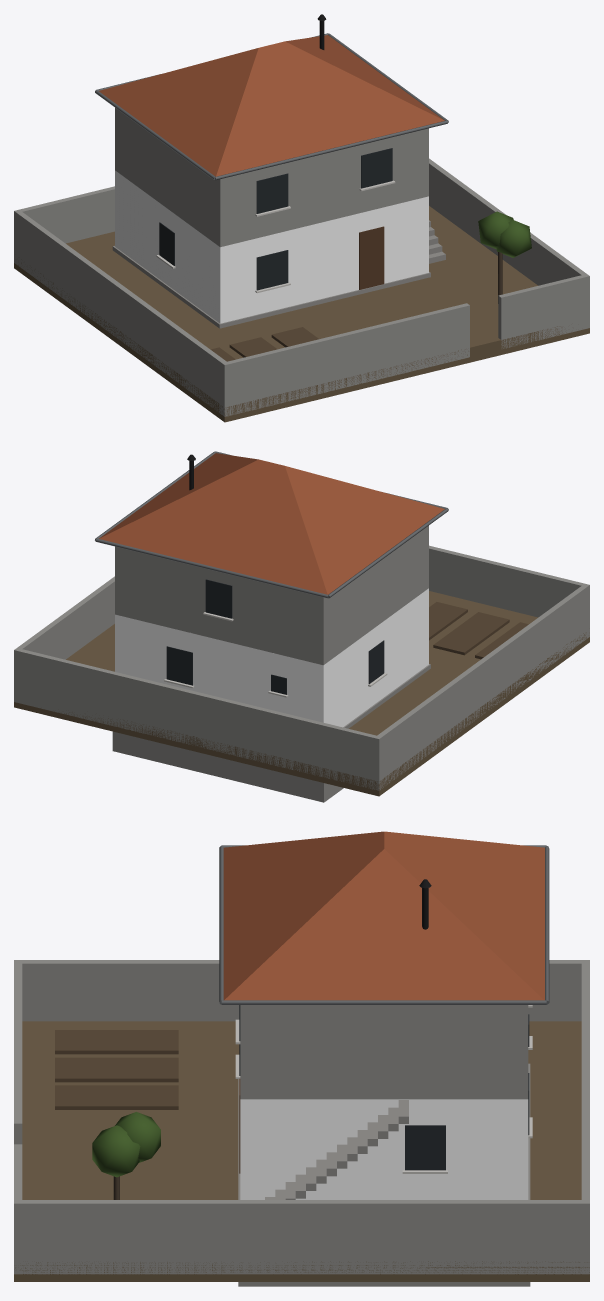
File: bina_11.glb
3 renders of one model, top to bottom at view 1: azimuth 30°, elevation 25°; view 2: azimuth 150°, elevation 25°; view 3: azimuth 270°, elevation 25°, orthographic. The views are drawn at different scales.
Parts seen in each view (by area): view 1: P11_Gecekondu_B_L1.001; view 2: P11_Gecekondu_B_L1.001; view 3: P11_Gecekondu_B_L1.001.
Boxes of the visible parts, x1,y1,x2,y2 form: P11_Gecekondu_B_L1.001: (14,14,589,422); P11_Gecekondu_B_L1.001: (14,451,589,802); P11_Gecekondu_B_L1.001: (14,831,589,1286).
Bounding box in the file's own units: 14 × 10.18 × 14.
